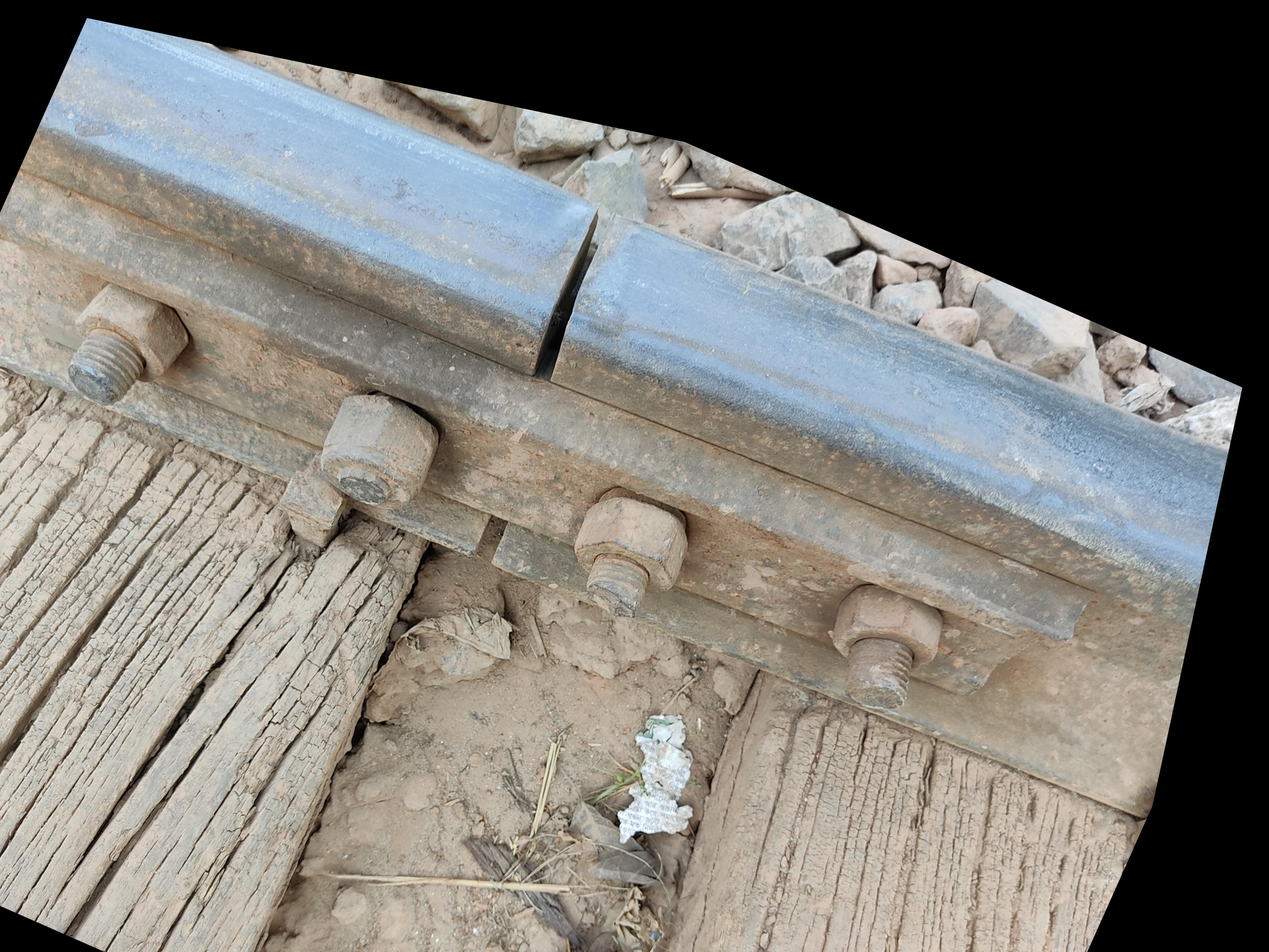person: (546, 95, 850, 330), (568, 354, 709, 488)
